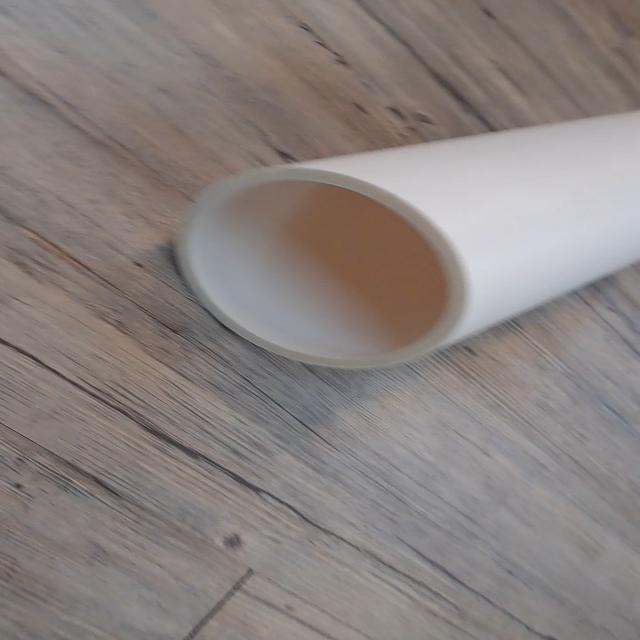CORAL: (154, 93, 640, 377)
